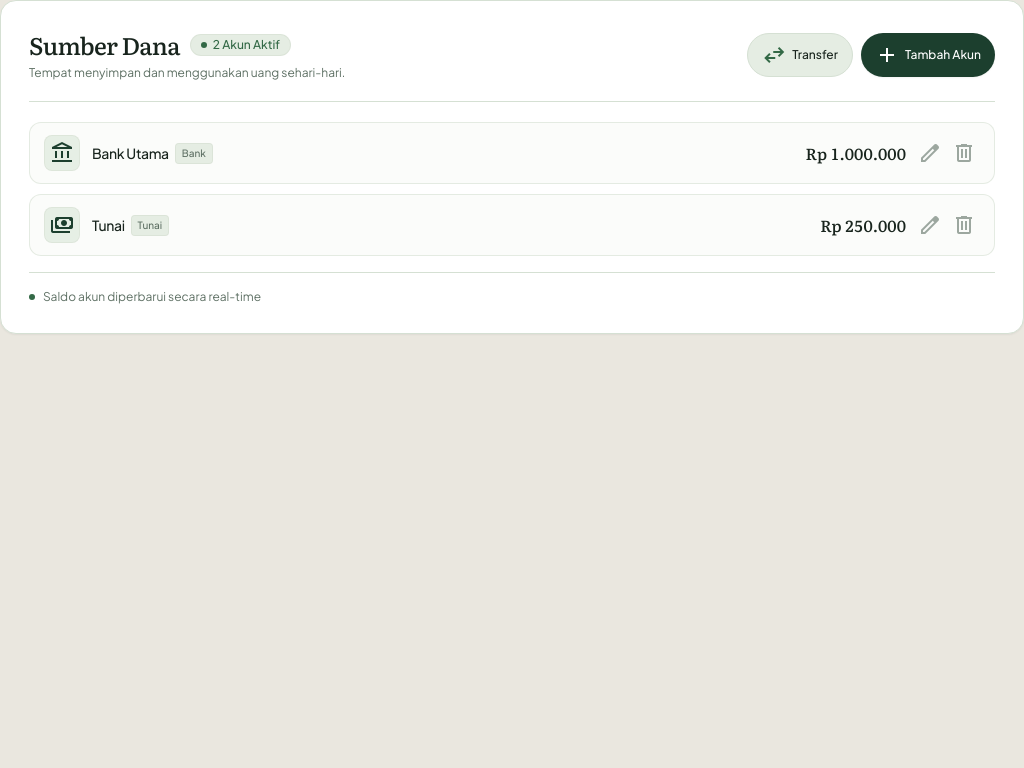
Test: SumberDanaSection interactions › shows the required-name error only after the field is touched
Step 1. Click the button "Tambah Akun" → click(928, 55), box [861,33,995,77]
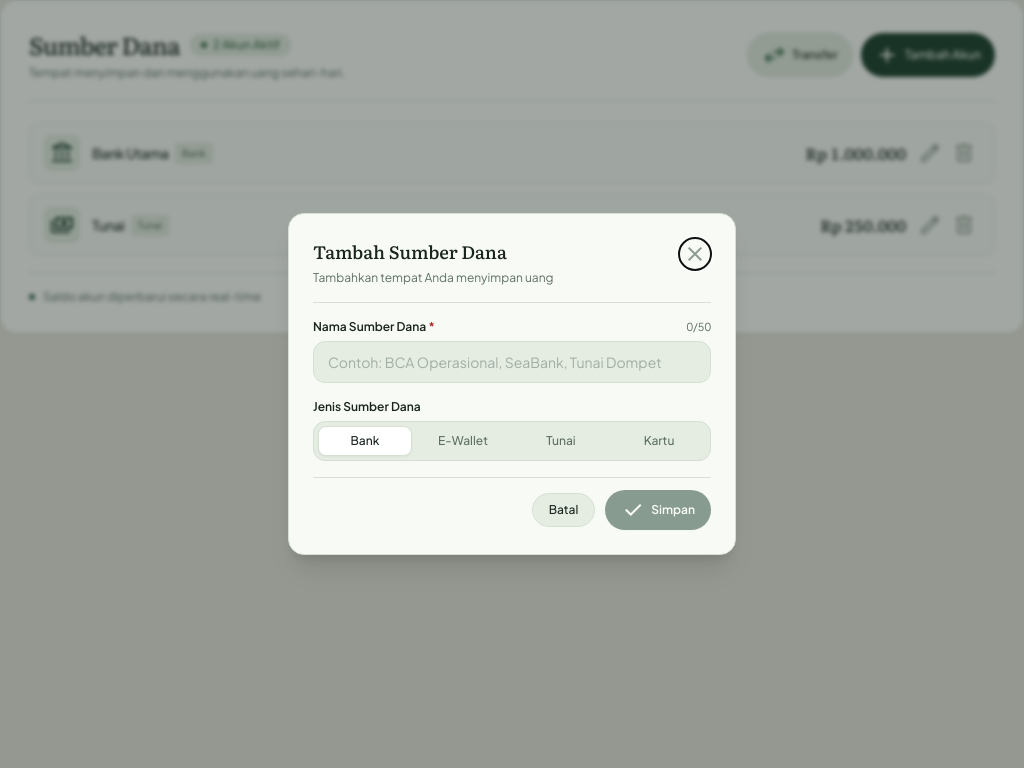
Expected: the text "Nama sumber dana wajib diisi." is not shown
Expected: the text "0/50" is shown, [686,319,711,335]
Step 2. Click the field labelled "Nama Sumber Dana *" → click(512, 362), box [313,341,711,383]
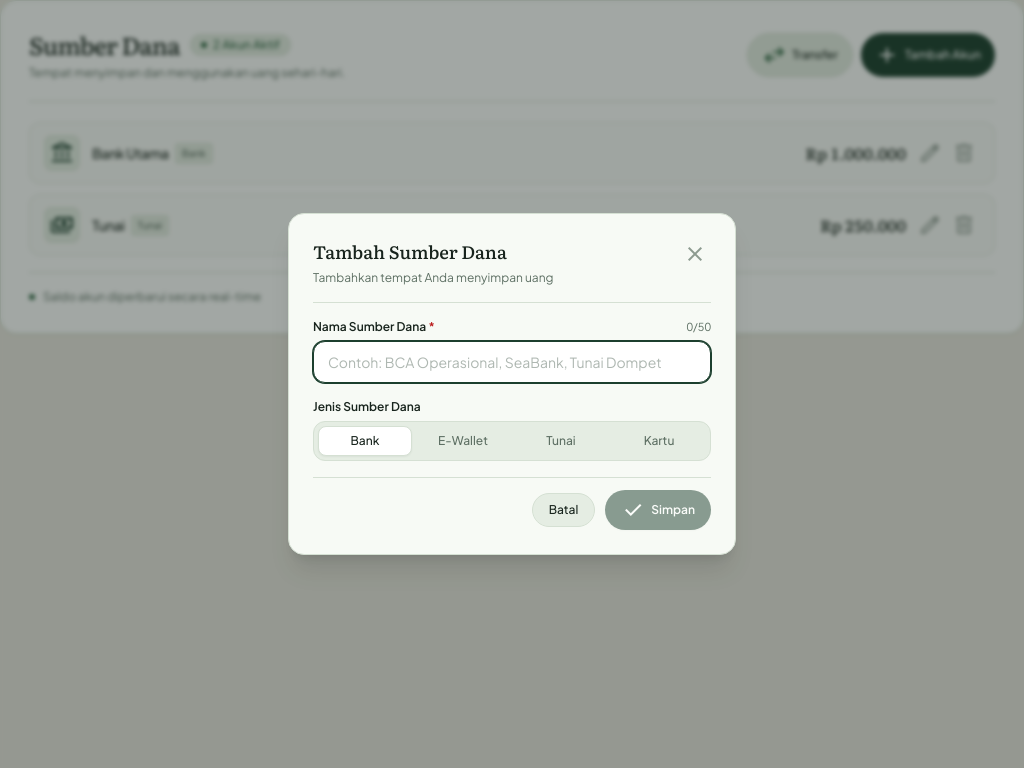
Step 3. Press Tab
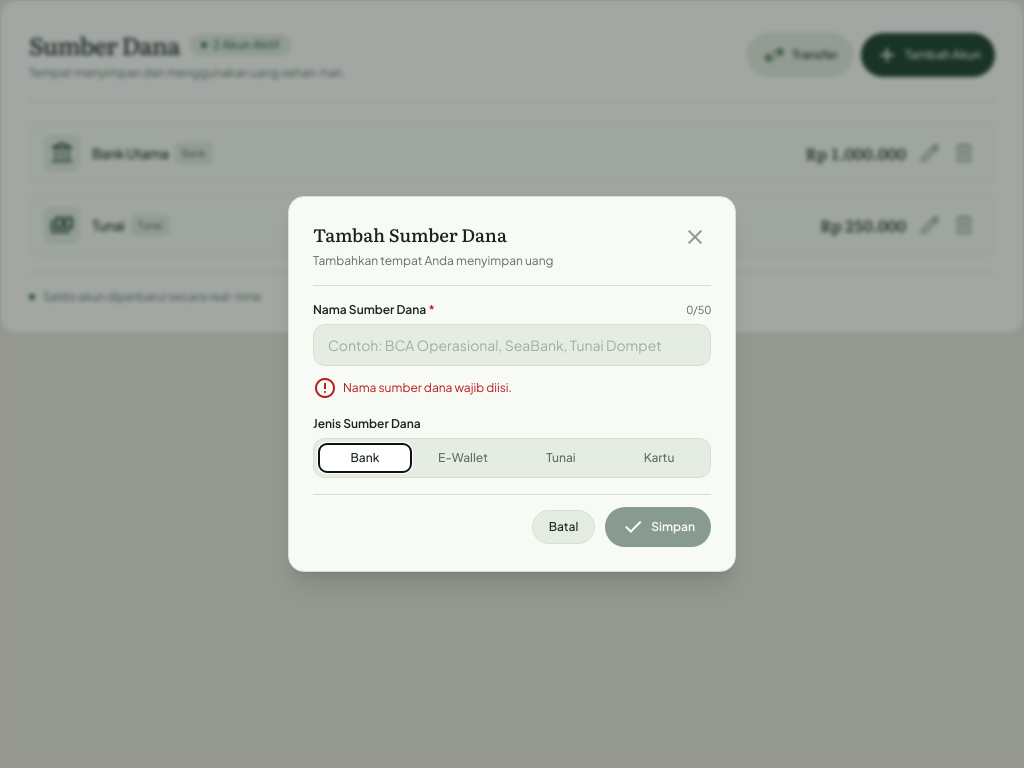
Expected: the text "Nama sumber dana wajib diisi." is shown, [343,380,512,396]
